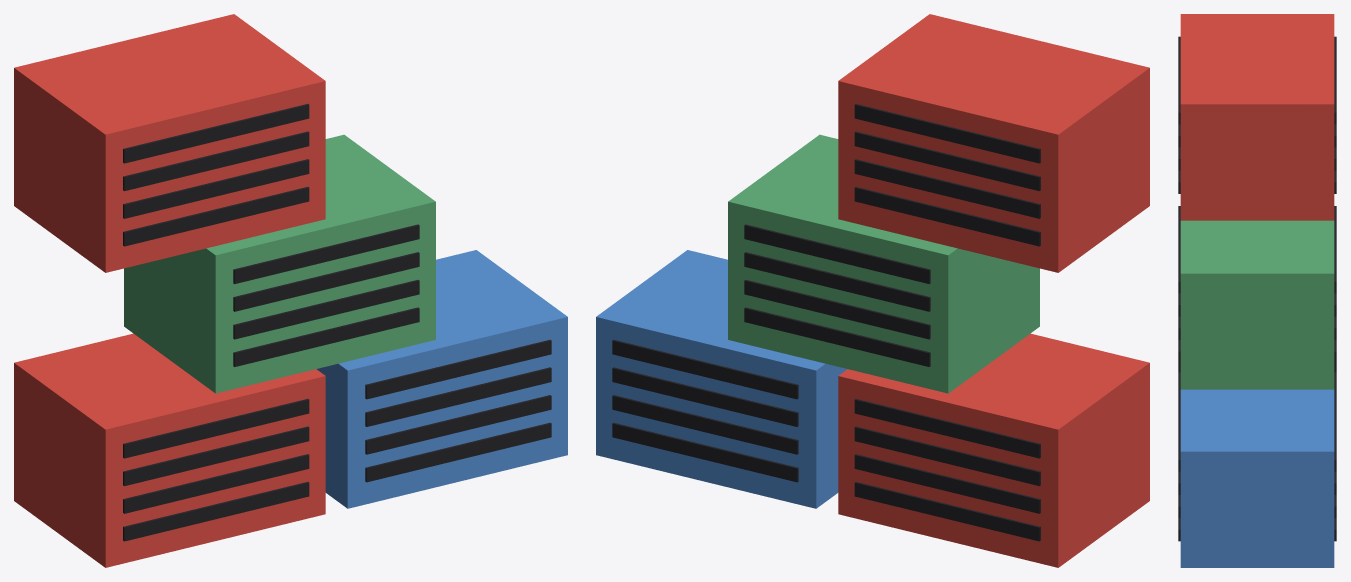
Rendered from crates.glb.
3 views of the same model, side by side, from view 1: azimuth 30°, elevation 25°; view 2: azimuth 150°, elevation 25°; view 3: azimuth 270°, elevation 25° (orthographic). The views are drawn at different scales.
Visible parts, largest first — view 1: crates; view 2: crates; view 3: crates.
Boxes of the visible parts, x1=… form: crates: x1=14, y1=14, x2=567, y2=567; crates: x1=596, y1=14, x2=1149, y2=567; crates: x1=1178, y1=14, x2=1336, y2=567.
Bounding box in the file's own units: 1.05 × 0.94 × 0.37.
